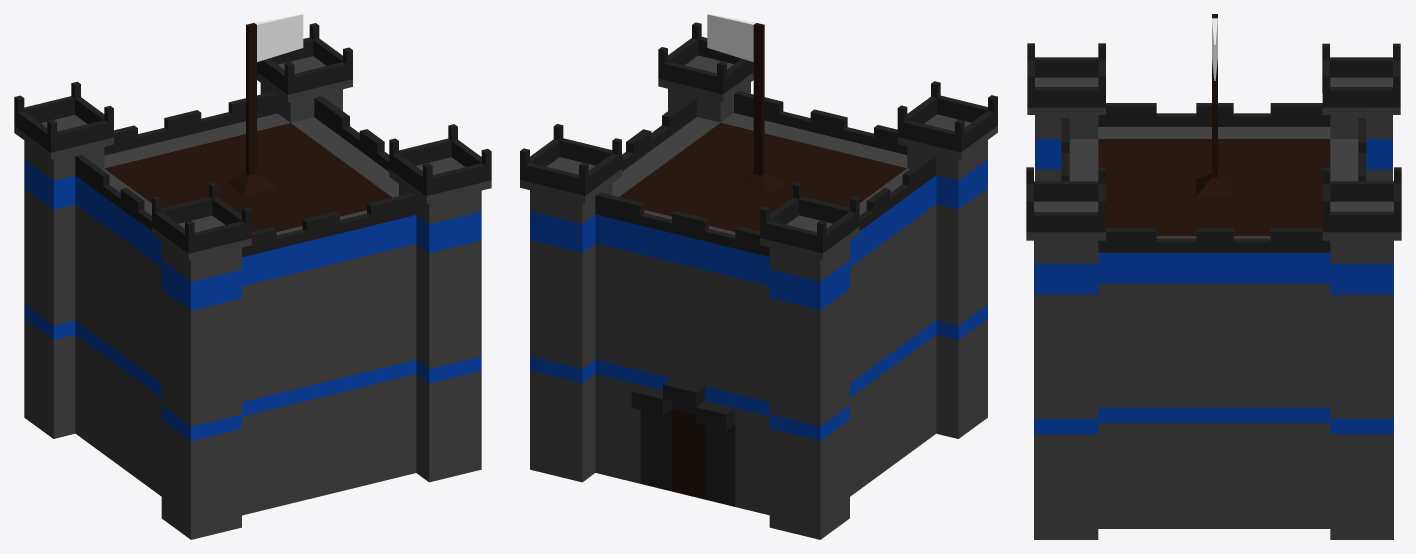
Rendered from target_castle.FBX.
3 views of the same model, side by side, from view 1: azimuth 30°, elevation 25°; view 2: azimuth 150°, elevation 25°; view 3: azimuth 270°, elevation 25° (orthographic). The views are drawn at different scales.
Parts seen in each view (by area): view 1: Box001; view 2: Box001; view 3: Box001.
Boxes of the visible parts, bbox=[...] form: Box001: bbox=[14, 14, 491, 539]; Box001: bbox=[520, 14, 997, 539]; Box001: bbox=[1026, 14, 1401, 539].
Bounding box in the file's own units: 193 × 255 × 194.
